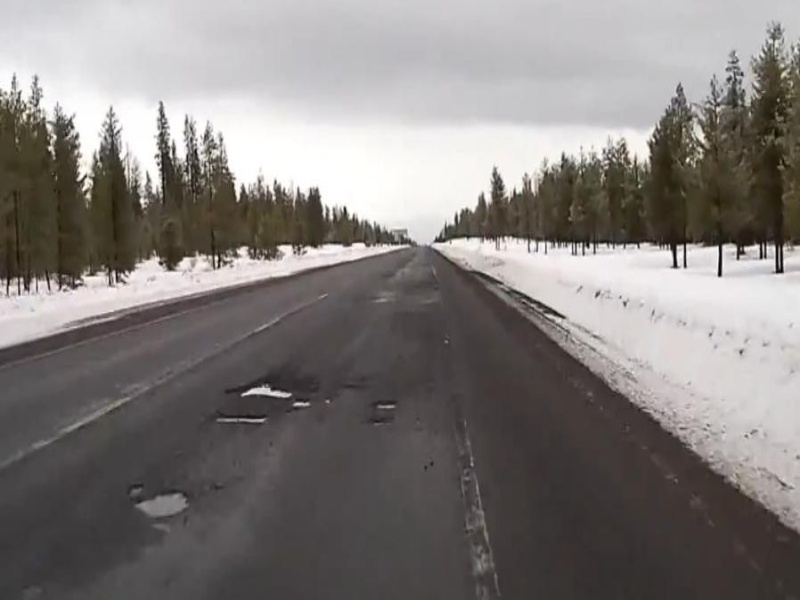pothole: (128, 485, 194, 522), (234, 375, 299, 402)
